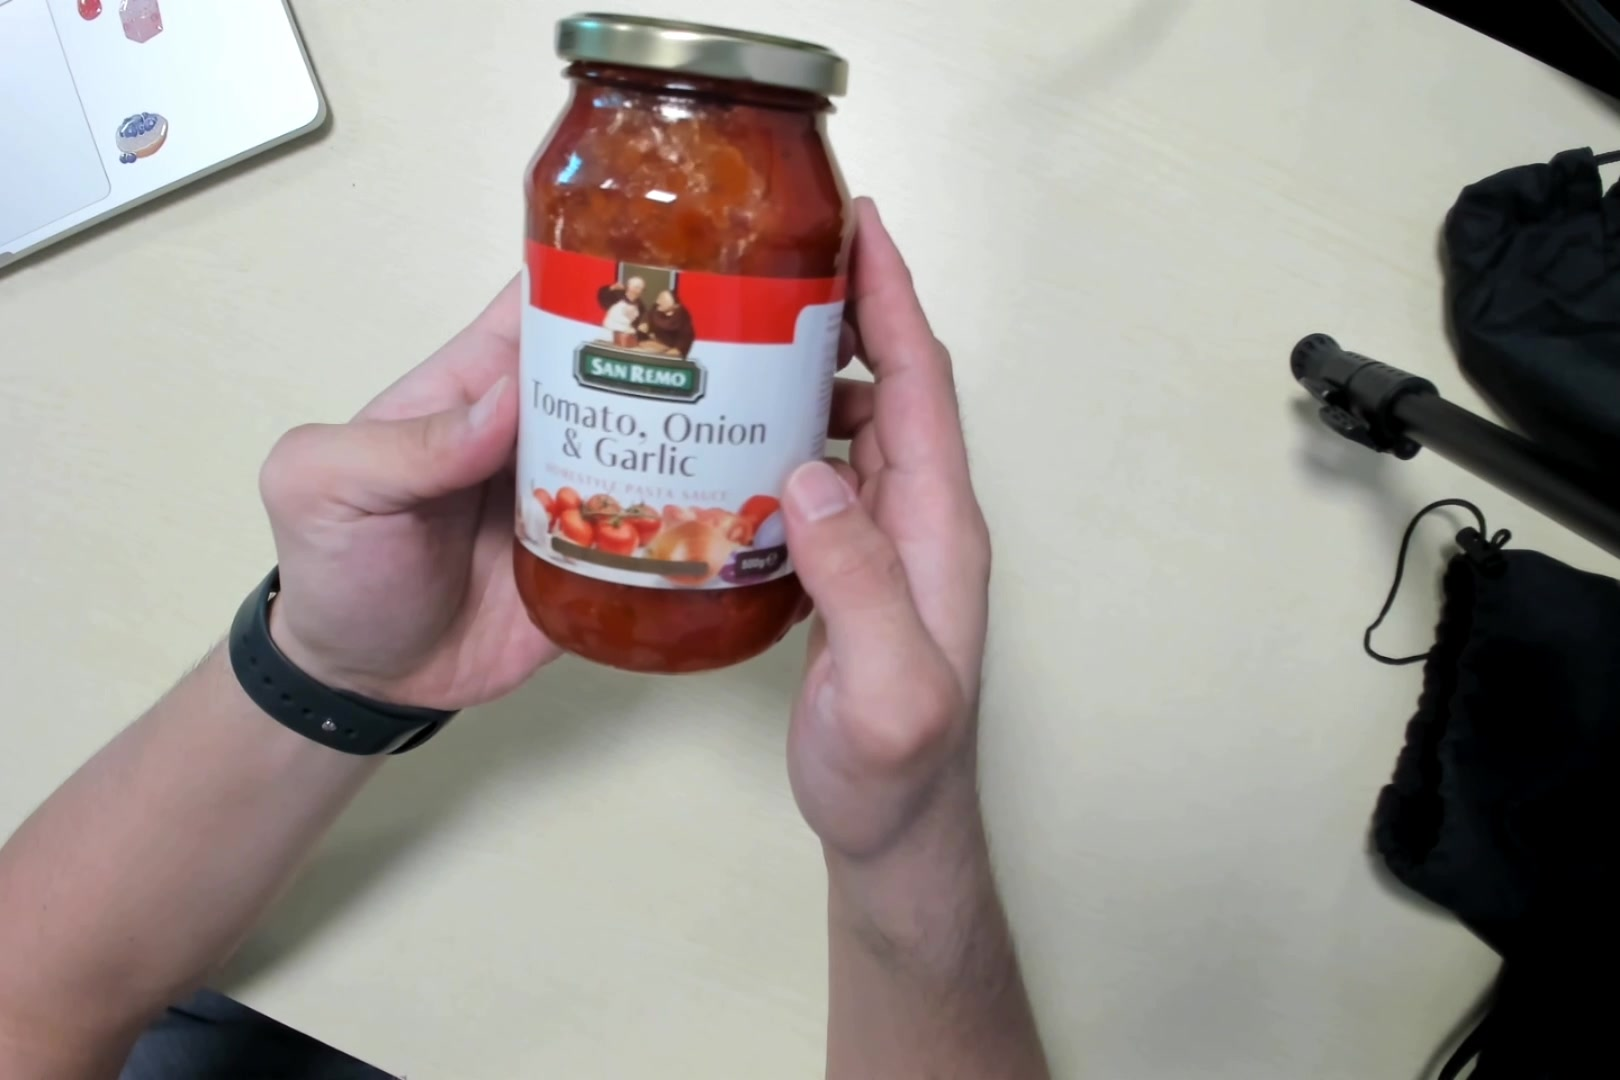PastaSauce_500-599g_NonHalal_NonHealthy: (516, 4, 829, 675)
